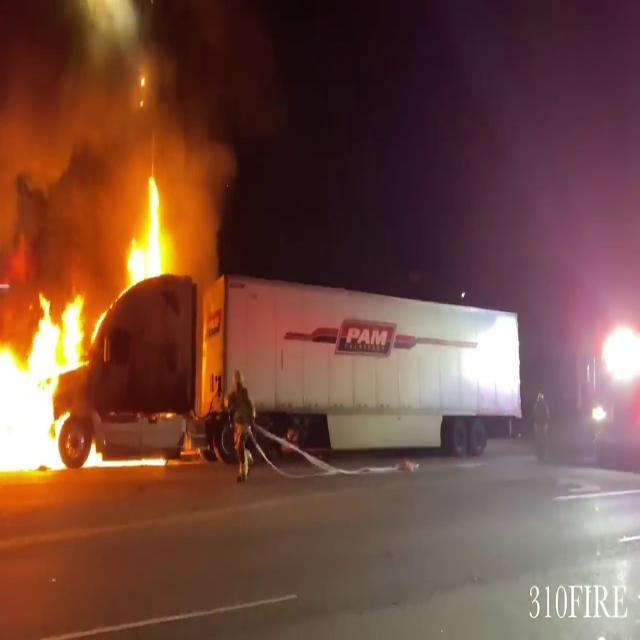Fire: (0, 287, 106, 482), (120, 174, 174, 296)
Smoke: (0, 0, 246, 260)
